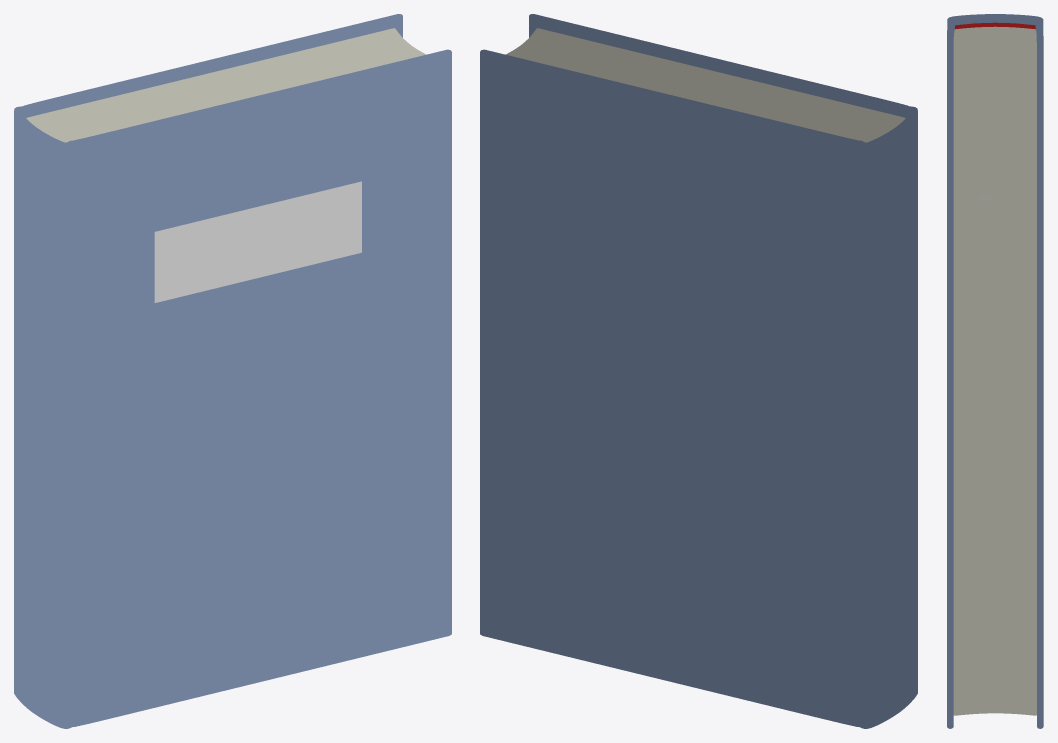
Rendered from Fixedtextbook.fbx.
3 views of the same model, side by side, from view 1: azimuth 30°, elevation 25°; view 2: azimuth 150°, elevation 25°; view 3: azimuth 270°, elevation 25° (orthographic). The views are drawn at different scales.
Visible parts, largest first — view 1: Bind; view 2: Bind; view 3: Bind.
Boxes of the visible parts, bbox=[...] form: Bind: bbox=[14, 14, 451, 728]; Bind: bbox=[480, 14, 917, 728]; Bind: bbox=[947, 14, 1043, 728].
Size of the model in its own units: 215 by 305 by 49.83.
